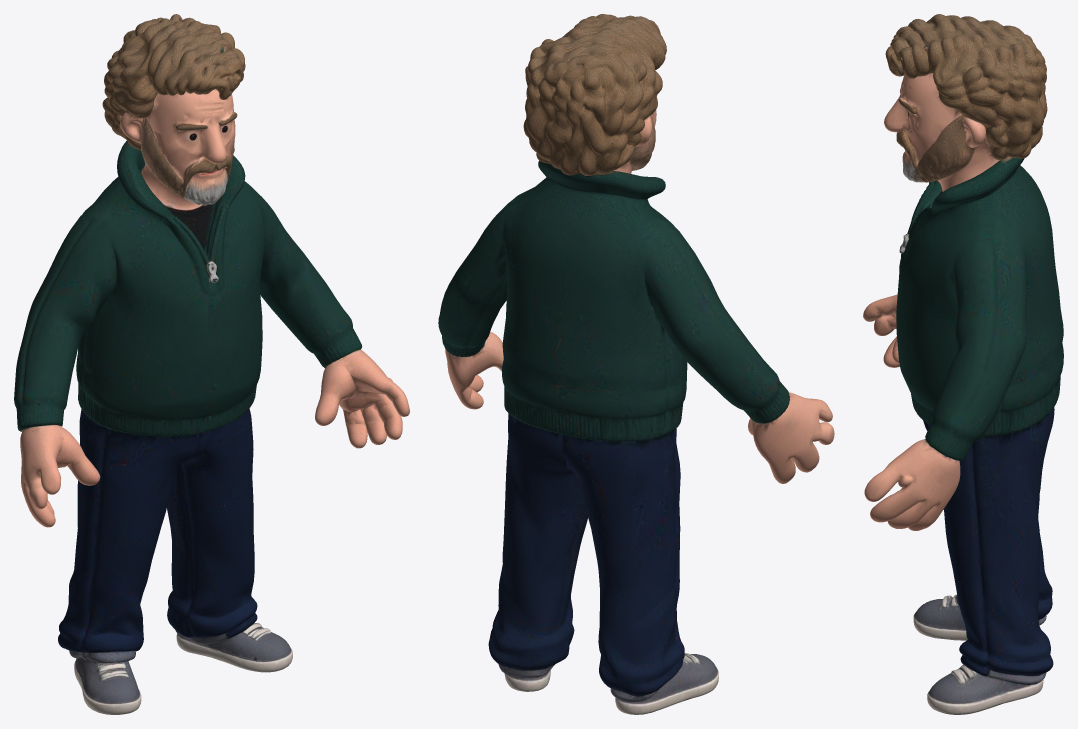
File: conal_hands.glb
3 views of the same model, side by side, from view 1: azimuth 30°, elevation 25°; view 2: azimuth 150°, elevation 25°; view 3: azimuth 270°, elevation 25° (orthographic).
Parts seen in each view (by area): view 1: puppet_open; view 2: puppet_open; view 3: puppet_open.
Boxes of the visible parts, left/top/right/bottom form: puppet_open: left=14, top=14, right=409, bottom=714; puppet_open: left=438, top=14, right=834, bottom=714; puppet_open: left=863, top=14, right=1063, bottom=714.
Size of the model in its own units: 1.04 by 1.75 by 0.4927.
Materials: 1 (1 with a texture image).
